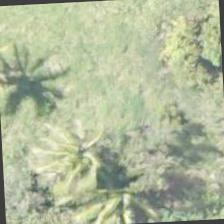Kelapa_Sawit: (97, 84, 192, 179), (8, 54, 103, 148), (157, 19, 223, 113), (0, 2, 76, 83)
